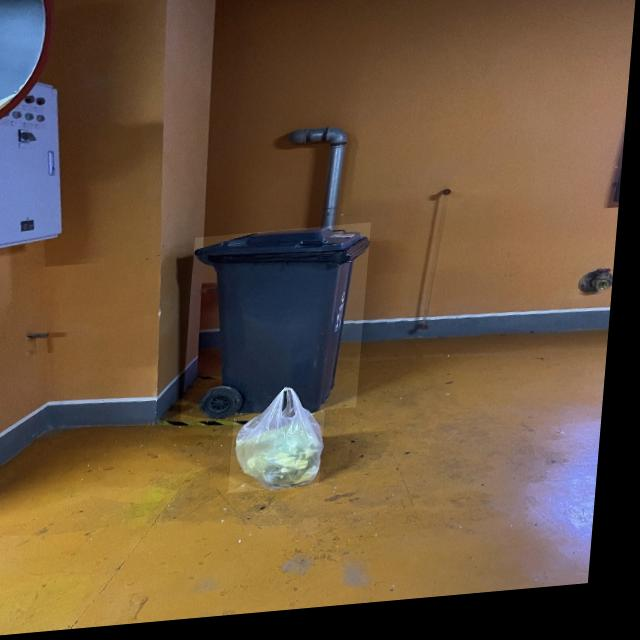garbage: (237, 390, 334, 498)
garbage_bin: (188, 229, 376, 427)
